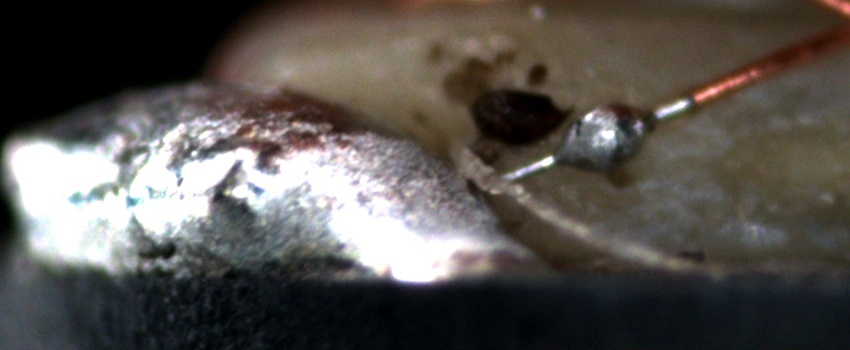TB: (550, 98, 656, 180)
TS: (500, 98, 694, 182)
TTCW: (468, 58, 754, 202)
